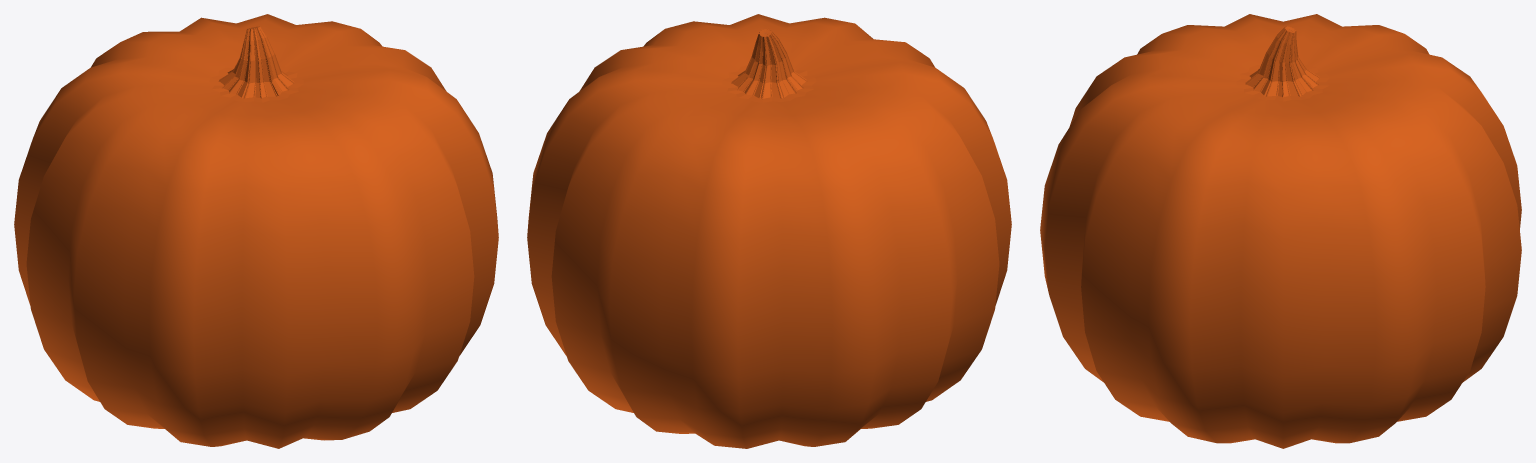
The picture shows the model from 3 angles, left to right: view 1: azimuth 30°, elevation 25°; view 2: azimuth 150°, elevation 25°; view 3: azimuth 270°, elevation 25°; orthographic projection.
Parts seen in each view (by area): view 1: Sphere001; view 2: Sphere001; view 3: Sphere001.
Part boxes in pixels (x1,y1,x2,y2): Sphere001: [14, 14, 498, 448]; Sphere001: [527, 14, 1011, 448]; Sphere001: [1040, 14, 1521, 448].
Size of the model in its own units: 108 by 91.64 by 108.
Materials: 1 (1 with a texture image).
